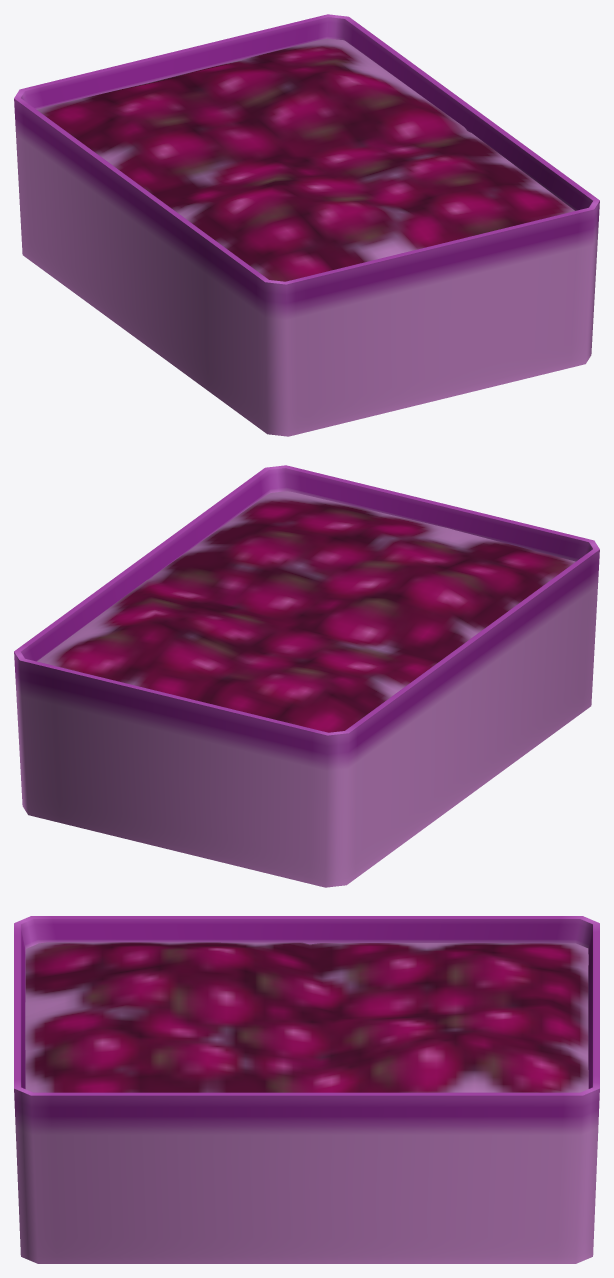
File: jsf_Ingredient_Grape.fbx
The picture shows the model from 3 angles, top to bottom: view 1: azimuth 30°, elevation 25°; view 2: azimuth 150°, elevation 25°; view 3: azimuth 270°, elevation 25°; orthographic projection. The views are drawn at different scales.
Parts seen in each view (by area): view 1: jsf_Ingredient_Grape; view 2: jsf_Ingredient_Grape; view 3: jsf_Ingredient_Grape.
Part boxes in pixels (x1,y1,x2,y2): jsf_Ingredient_Grape: (14,14,599,436); jsf_Ingredient_Grape: (14,465,599,887); jsf_Ingredient_Grape: (14,916,599,1263).
Size of the model in its own units: 9.52 by 4.45 by 13.12.
